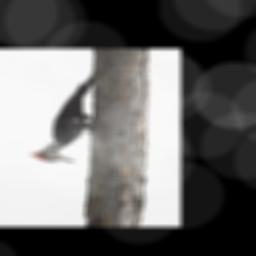Woodpecker: (28, 72, 93, 163)
